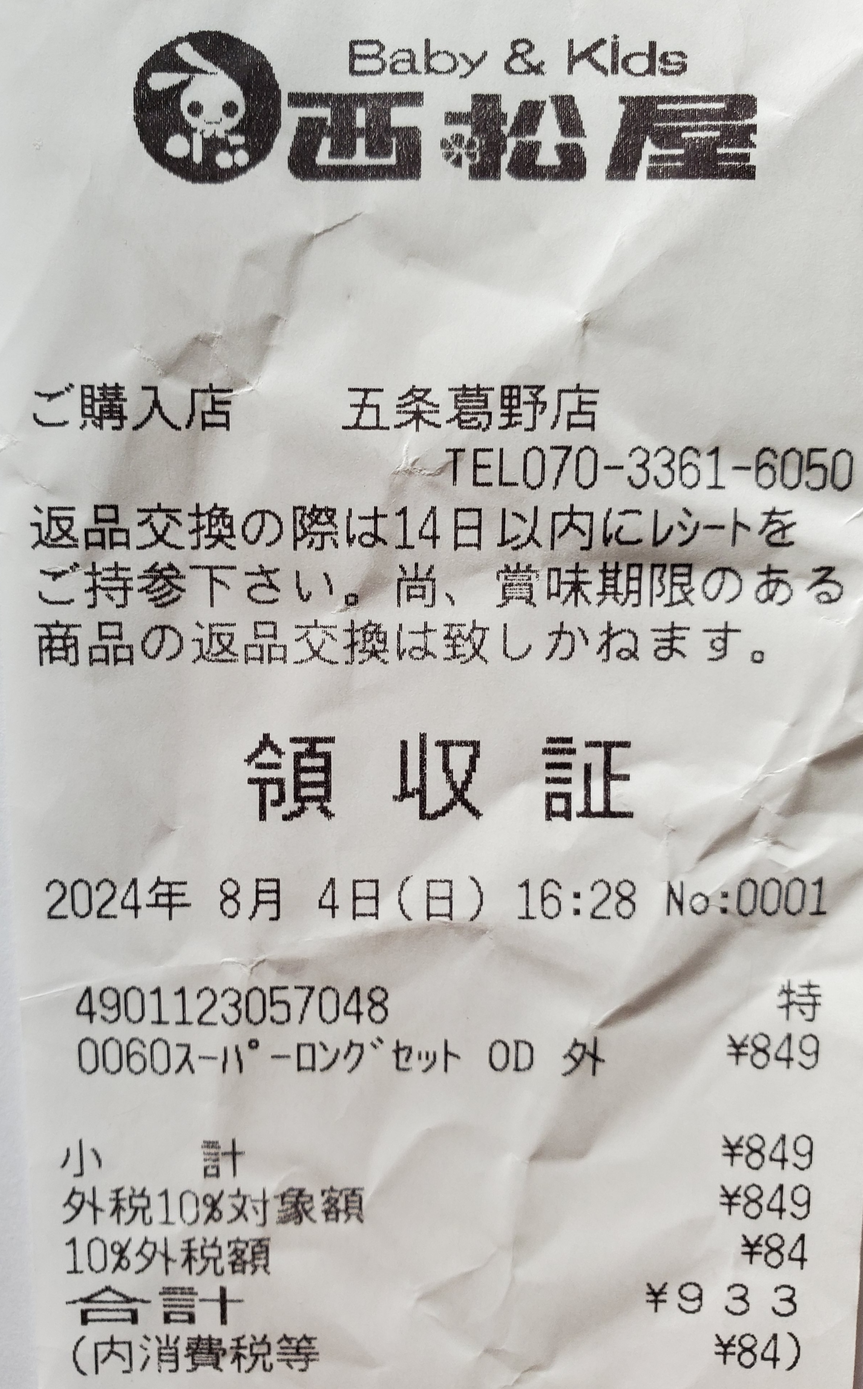Date: (23, 865, 390, 939)
Shopname: (289, 72, 812, 212)
Telnum: (512, 439, 856, 497)
Totalpay: (63, 1279, 810, 1329)
